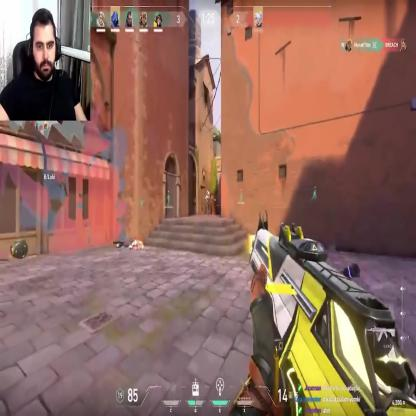enemy: (205, 190, 210, 214)
enemy_head: (207, 190, 209, 196)
